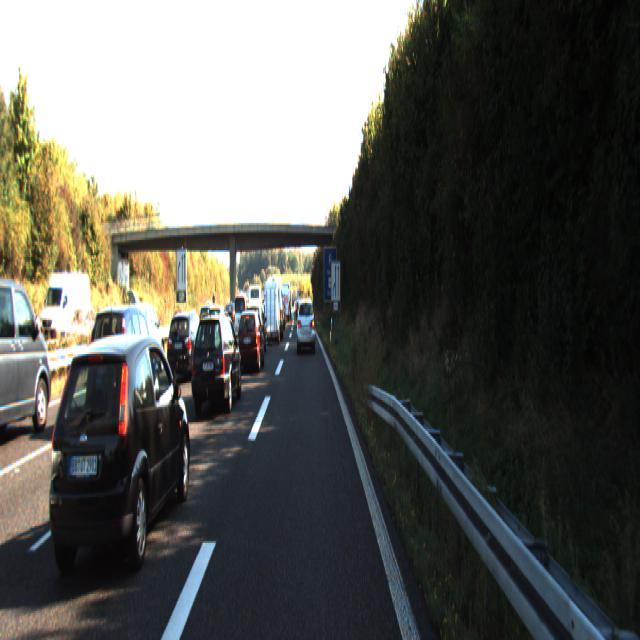Car: (46, 328, 193, 586), (86, 302, 162, 432), (0, 274, 55, 453), (188, 311, 242, 418), (166, 308, 209, 381), (235, 311, 265, 375), (263, 283, 282, 350), (296, 296, 315, 352)
